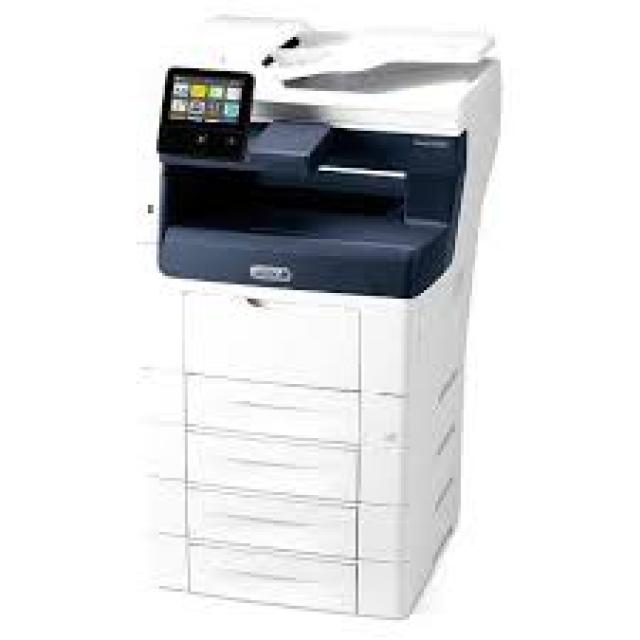printer: (145, 11, 501, 620), (154, 11, 501, 299)
